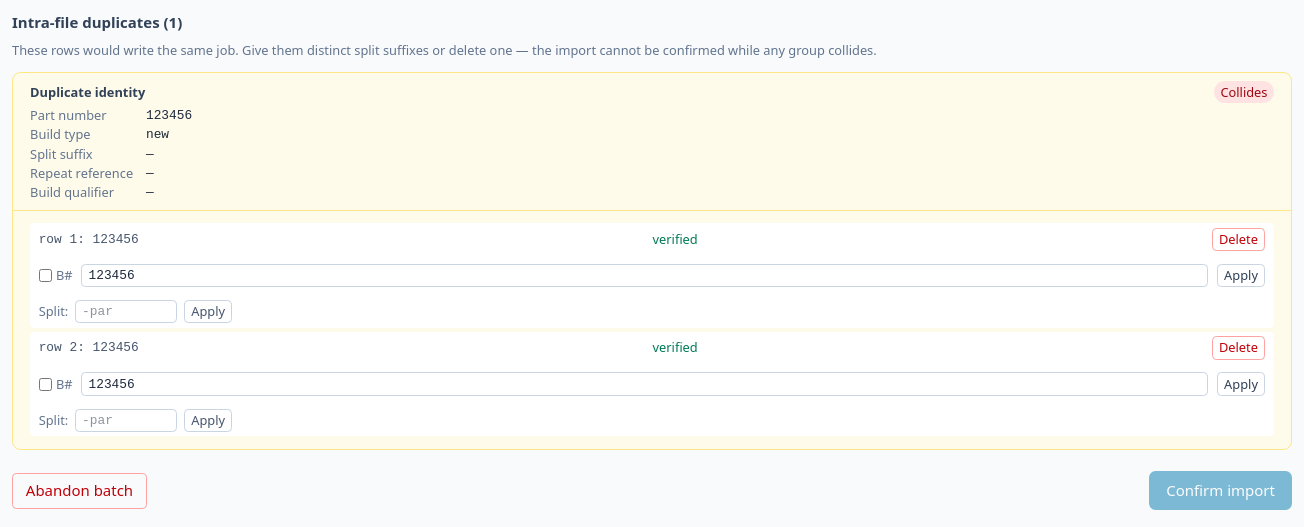
it: BatchReviewPanel — Patch 06 applyMutationResponse › follows the server for inputs the operator has not edited
Replace the text in the field with placeholder "canonical" below "row 1: 123456" with "654321" at [645, 276], box [81,264,1208,287]
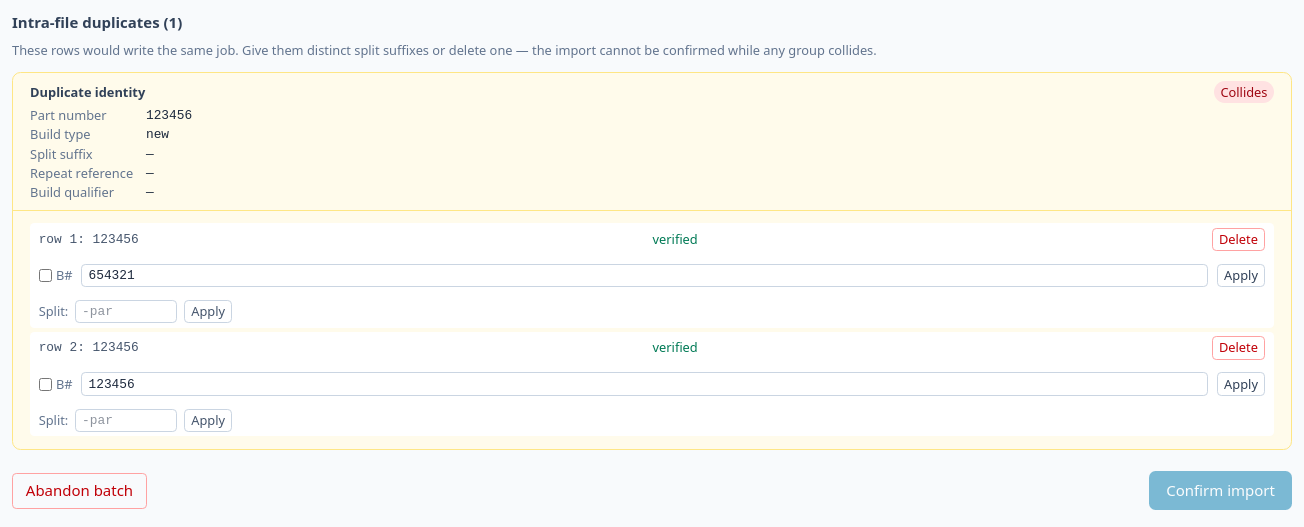
Click the 1st button "Apply".
click(1241, 276)  # box [1217,264,1265,287]
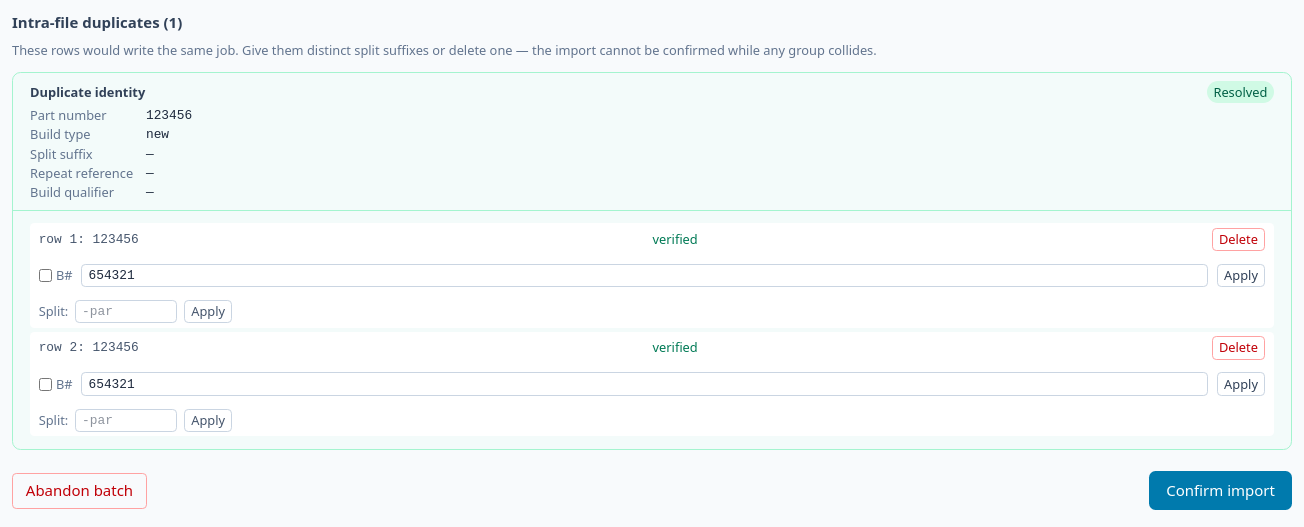
Check: the field with placeholder "canonical" below "row 2: 123456" holds "654321", box [81,372,1208,396]
Check: the button "Confirm import" is enabled, box [1149,471,1292,510]
